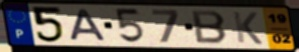5: (29, 6, 67, 44), (114, 7, 146, 45)
7: (149, 8, 182, 45)
A: (69, 8, 110, 42)
B: (190, 9, 230, 45)
K: (231, 11, 265, 46)
